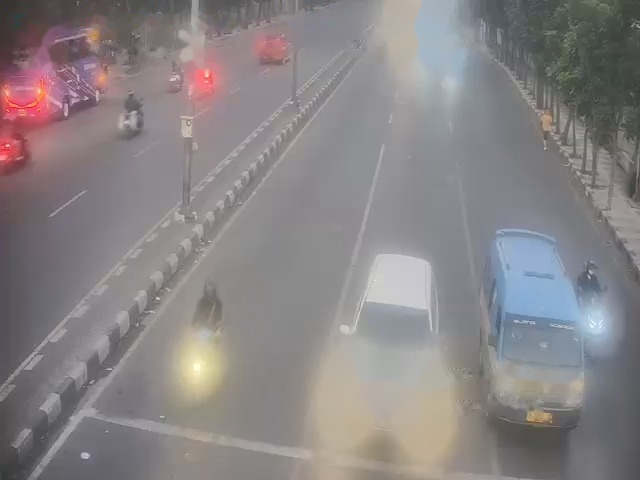Bis: (4, 25, 111, 125)
Mobil: (326, 245, 441, 433), (479, 240, 592, 427), (256, 29, 286, 64)
Motor: (187, 280, 226, 394), (576, 289, 605, 351), (0, 125, 27, 173), (116, 109, 141, 139), (169, 64, 183, 89)
